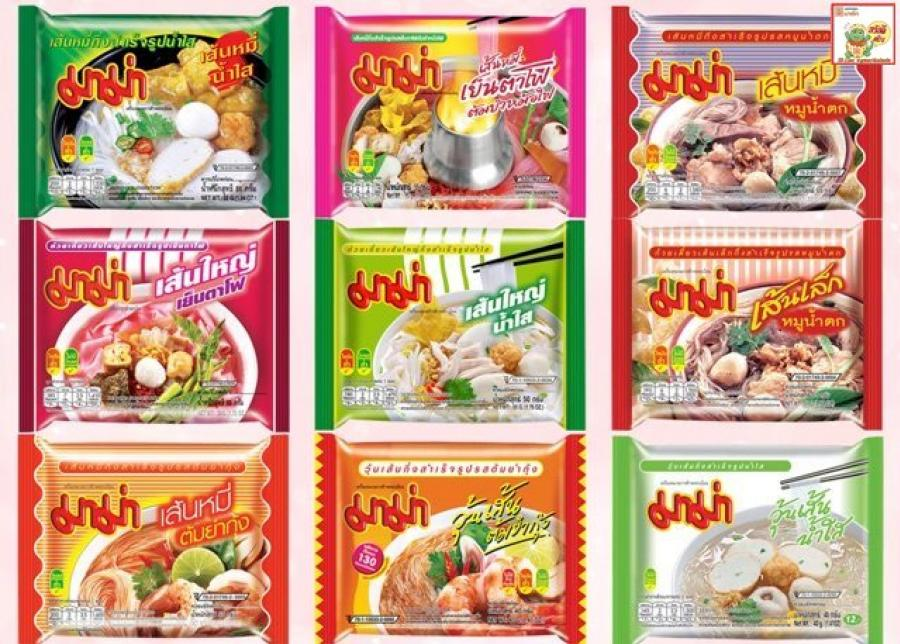Snack: (310, 215, 590, 433)
